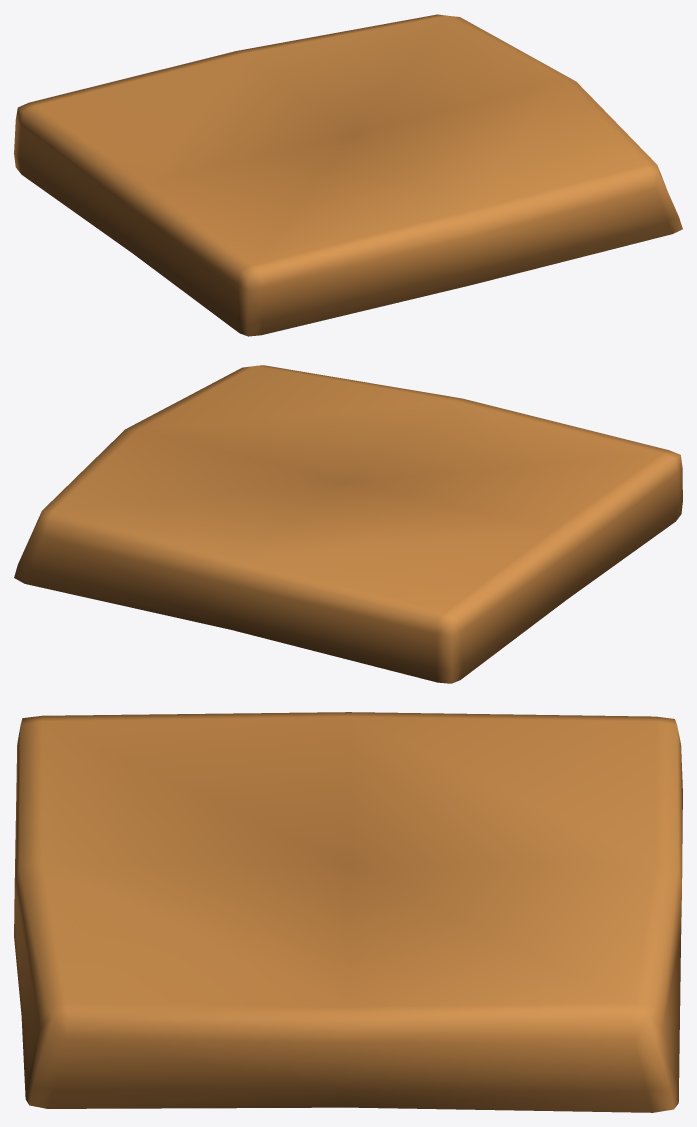
The model's file is slab_a.glb.
3 views of the same model, one above another, from view 1: azimuth 30°, elevation 25°; view 2: azimuth 150°, elevation 25°; view 3: azimuth 270°, elevation 25° (orthographic). The views are drawn at different scales.
Parts seen in each view (by area): view 1: slab_a; view 2: slab_a; view 3: slab_a.
Boxes of the visible parts, box(x1,y1,x2,y2) form: slab_a: box(14, 14, 682, 336); slab_a: box(14, 365, 682, 683); slab_a: box(14, 712, 682, 1112).
Bounding box in the file's own units: 1.1 × 0.1649 × 1.
